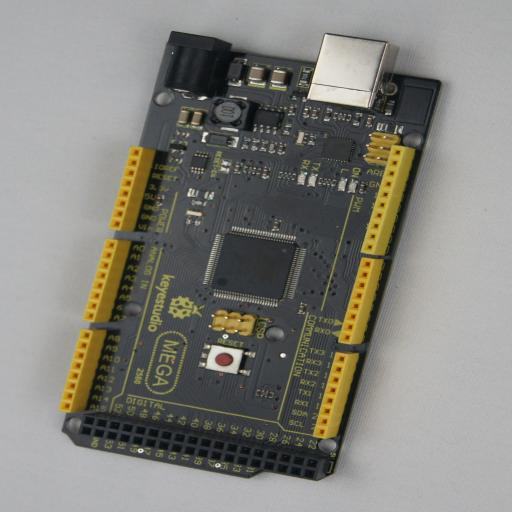Arduino Mega 2560 -Black and Yellow-: (62, 31, 444, 481)
